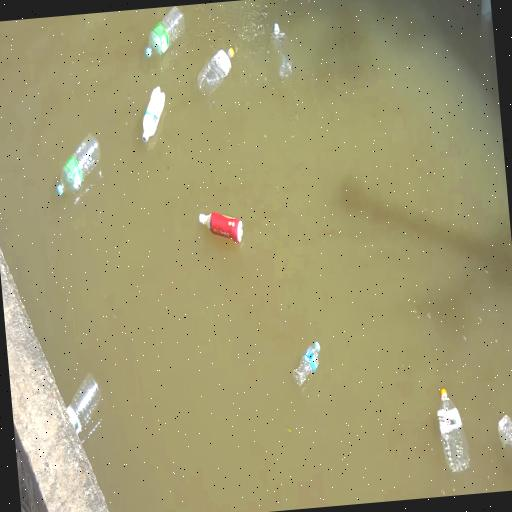plastic: (436, 388, 469, 473), (56, 134, 99, 195), (145, 6, 184, 57), (67, 374, 100, 434), (196, 47, 233, 95), (291, 342, 319, 391), (198, 212, 242, 243), (142, 87, 164, 142), (270, 24, 291, 78), (498, 416, 511, 447)
